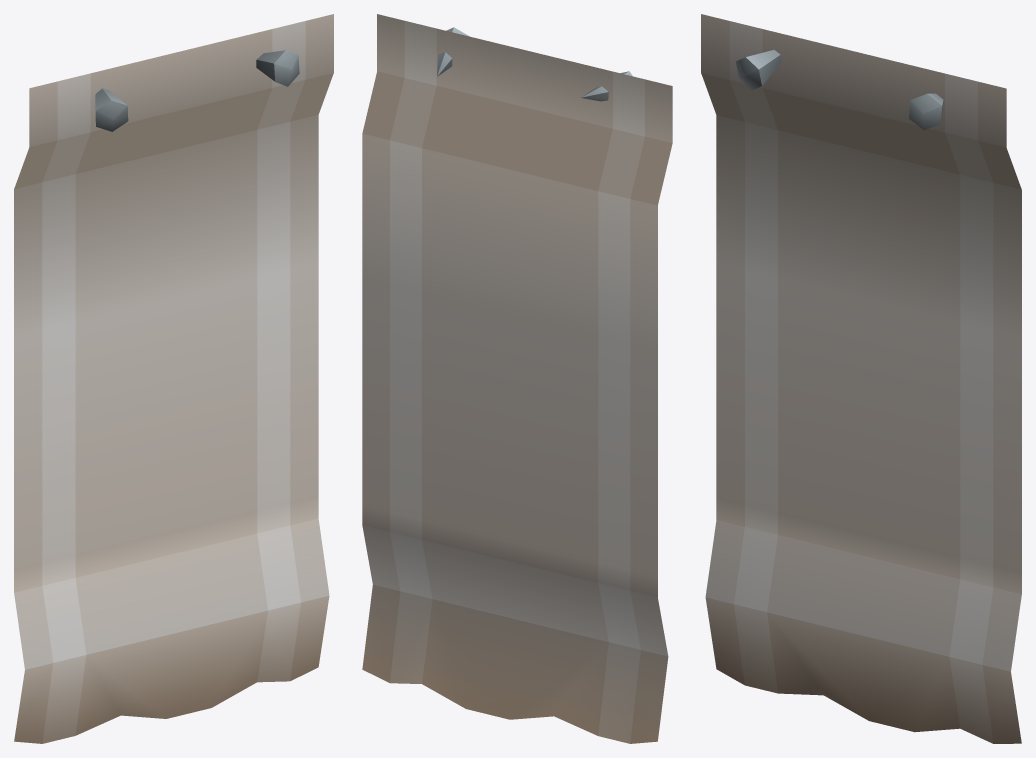
File: banner_white.gltf
The picture shows the model from 3 angles, left to right: view 1: azimuth 30°, elevation 25°; view 2: azimuth 150°, elevation 25°; view 3: azimuth 330°, elevation 25°; orthographic projection. The views are drawn at different scales.
Parts seen in each view (by area): view 1: banner_white; view 2: banner_white; view 3: banner_white.
Part boxes in pixels (x1=…): banner_white: x1=14, y1=14, x2=333, y2=743; banner_white: x1=362, y1=14, x2=672, y2=743; banner_white: x1=701, y1=14, x2=1021, y2=743.
Bounding box in the file's own units: 1.5 × 3.2 × 0.3119.
Materials: 1 (1 with a texture image).
